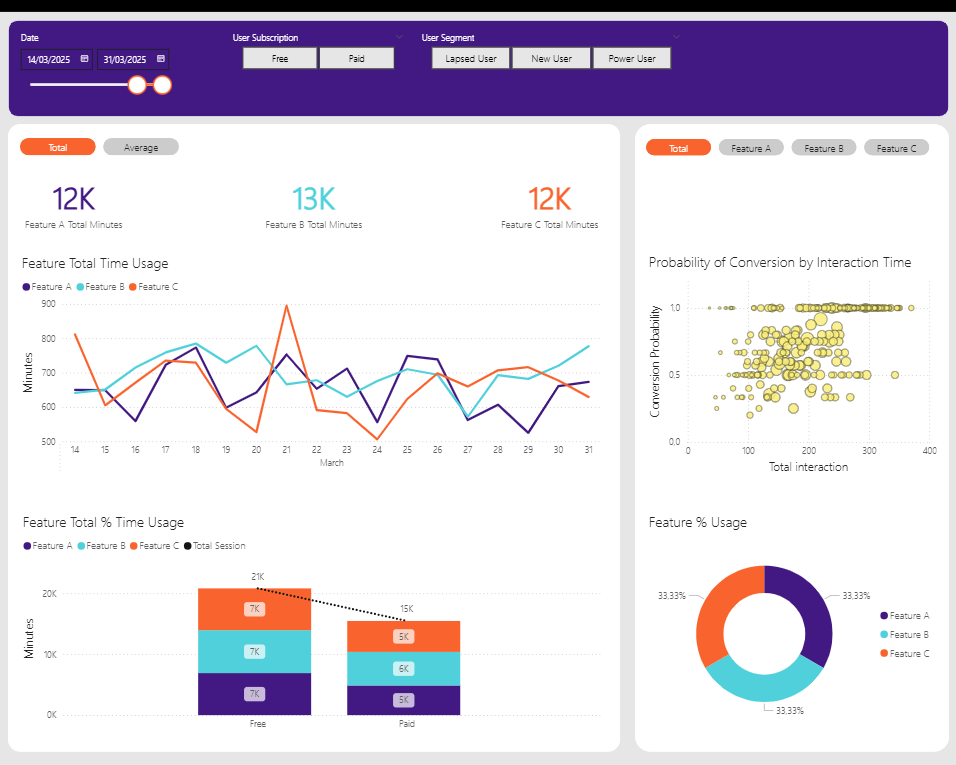

The dashboard page shown, as its layout file describes it:
{"tool":"powerbi","page":{"name":"User Engagement","canvas":[1280,1070],"ordinal":0},"visuals":[{"type":"shape","box":[848.6,206.9,419.4,837.5],"z":0},{"type":"shape","box":[12.5,206.9,816.7,837.5],"z":1000},{"type":"shape","box":[12.5,68.1,1255.6,129.2],"z":2000},{"type":"shape","box":[0,0,1279.2,56.9],"z":3000},{"type":"lineChart","title":"Feature Total Time Usage","fields":{"Y":["Sum((Fact) Connections.Feature_A_Count)","Sum((Fact) Connections.Feature_B_Count)","Sum((Fact) Connections.Feature_C_Count)"],"Category":["(Dim) Date.Timestamp.Variation.Date Hierarchy.Month","(Dim) Date.Timestamp.Variation.Date Hierarchy.Day"]},"box":[25.7,378.4,782.4,302.7],"z":5000},{"type":"slicer","fields":{"Values":["(Dim) Date.Timestamp"]},"box":[16.7,79.2,223.6,102.8],"z":6000},{"type":"bookmarkNavigator","box":[27.7,225.5,212.8,23.4],"z":7000},{"type":"card","fields":{"Values":["Sum((Fact) Connections.Feature_A_Count)"]},"box":[26.6,268.1,145.7,89.4],"z":8000},{"type":"card","fields":{"Values":["Sum((Fact) Connections.Feature_C_Count)"]},"box":[661.1,268.1,145.8,88.9],"z":9000},{"type":"card","fields":{"Values":["Sum((Fact) Connections.Feature_B_Count)"]},"box":[347.2,268.1,145.8,88.9],"z":10000},{"type":"slicer","fields":{"Values":["(Dim) Users.Paid"]},"box":[299.1,79,252.6,62],"z":14000},{"type":"lineStackedColumnComboChart","title":"Feature Total % Time Usage","fields":{"Y":["Sum((Fact) Connections.Feature_A_Count)","Sum((Fact) Connections.Feature_B_Count)","Sum((Fact) Connections.Feature_C_Count)"],"Y2":["Sum((Fact) Connections.Session_Duration)"],"Category":["(Dim) Users.Paid"]},"box":[27,724.3,781.1,301.4],"z":15000},{"type":"donutChart","title":"Feature % Usage","fields":{"Category":["(Fact) Interactions Frequency.Feature"],"Y":["Sum(InteractionSummary.TotalInteractions)"]},"box":[862.5,725,394.4,300],"z":17000},{"type":"scatterChart","title":"Probability of Conversion by Interaction Time","fields":{"X":["InteractionSummary.TotalInteractions"],"Y":["InteractionSummary.Conversion Probability"],"Size":["Sum(InteractionSummary.TotalInteractions)1"]},"box":[862.5,377.8,394.4,301.4],"z":19000},{"type":"image","box":[0,0,240.3,56.9],"z":20000},{"type":"slicer","fields":{"Values":["(Dim) Users.Segment"]},"box":[551.7,79,370.4,62],"z":21000},{"type":"bookmarkNavigator","box":[862.7,226.4,378,22.5],"z":22000}]}

Visuals, with their boxes on the page's 1280x1070 design canvas (x1, y1, x2, y2). These are canvas units, not pixel positions in the 956x765 screenshot, which may show the page scaled, cropped or inside an application window:
shape: x1=849, y1=207, x2=1268, y2=1044
shape: x1=12, y1=207, x2=829, y2=1044
shape: x1=12, y1=68, x2=1268, y2=197
shape: x1=0, y1=0, x2=1279, y2=57
"Feature Total Time Usage" lineChart: x1=26, y1=378, x2=808, y2=681
slicer - (Dim) Date.Timestamp: x1=17, y1=79, x2=240, y2=182
bookmarkNavigator: x1=28, y1=226, x2=240, y2=249
card - Sum((Fact) Connections.Feature_A_Count): x1=27, y1=268, x2=172, y2=358
card - Sum((Fact) Connections.Feature_C_Count): x1=661, y1=268, x2=807, y2=357
card - Sum((Fact) Connections.Feature_B_Count): x1=347, y1=268, x2=493, y2=357
slicer - (Dim) Users.Paid: x1=299, y1=79, x2=552, y2=141
"Feature Total % Time Usage" lineStackedColumnComboChart: x1=27, y1=724, x2=808, y2=1026
"Feature % Usage" donutChart: x1=862, y1=725, x2=1257, y2=1025
"Probability of Conversion by Interaction Time" scatterChart: x1=862, y1=378, x2=1257, y2=679
image: x1=0, y1=0, x2=240, y2=57
slicer - (Dim) Users.Segment: x1=552, y1=79, x2=922, y2=141
bookmarkNavigator: x1=863, y1=226, x2=1241, y2=249
